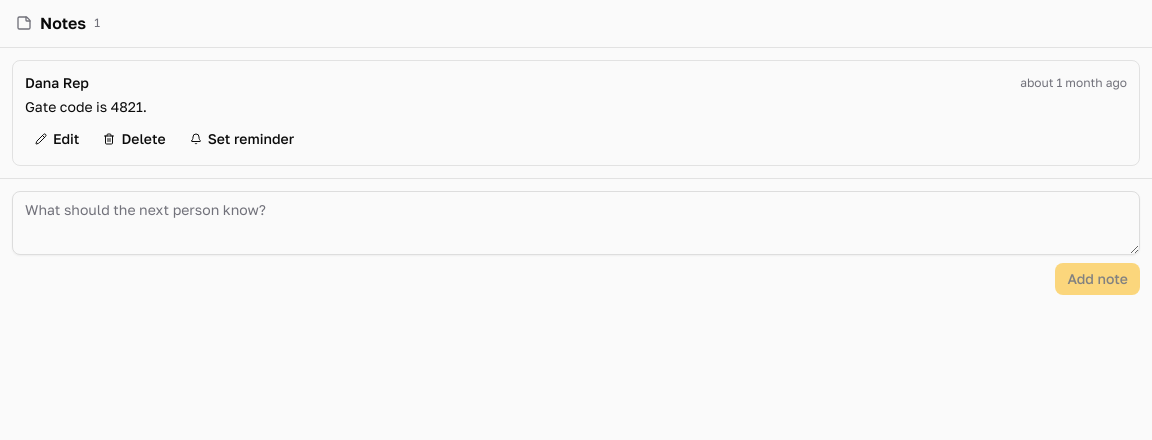
it: ConversationNotes › blocks a past reminder before it reaches the server
The width and height of the screenshot is (1152, 440).
Click the button "Set reminder" at point(242, 139), box [180,125,304,153]
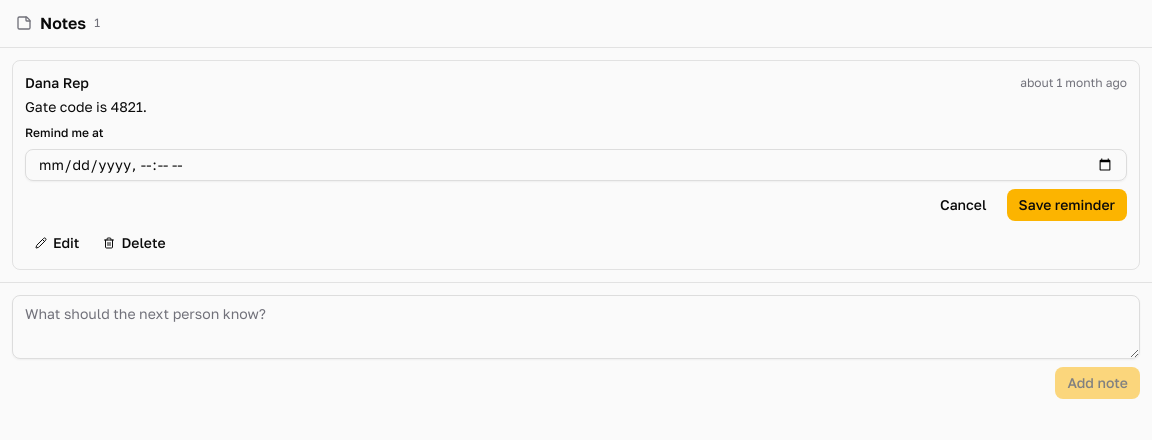
Type "2020-01-01T09:00" into the field labelled "Remind me at" at point(576, 165), box [25,149,1127,181]
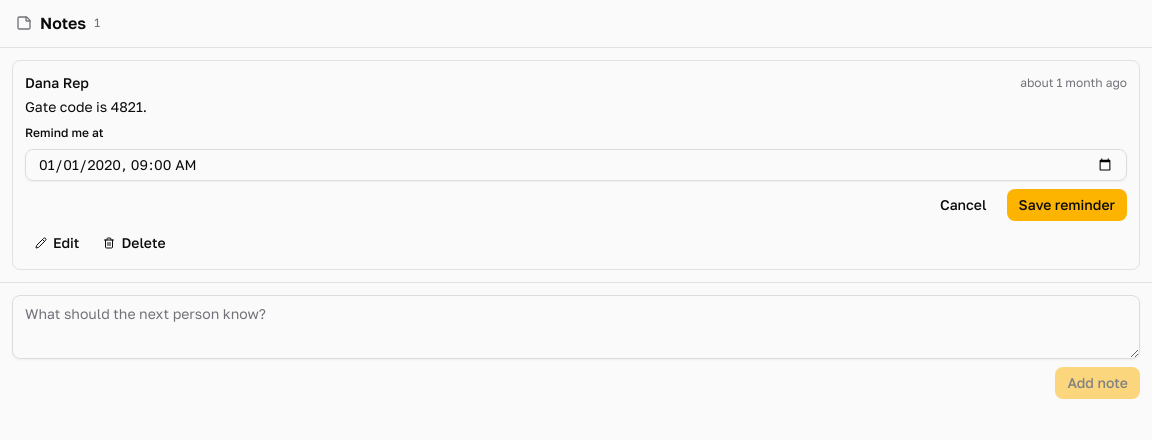
Click the button "Save reminder" at point(1067, 205), box [1006,189,1127,221]
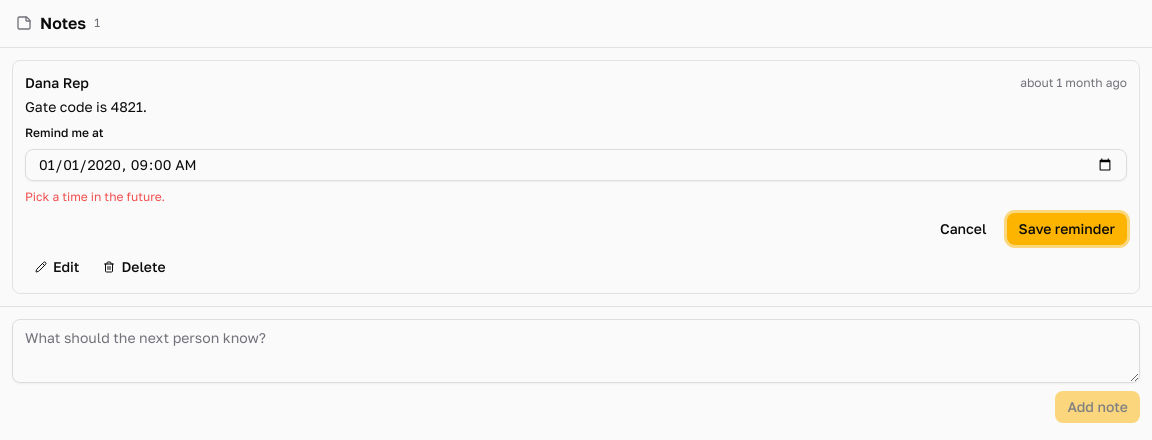
Check: the message reads "Pick a time in the future.", box [25,189,165,204]
